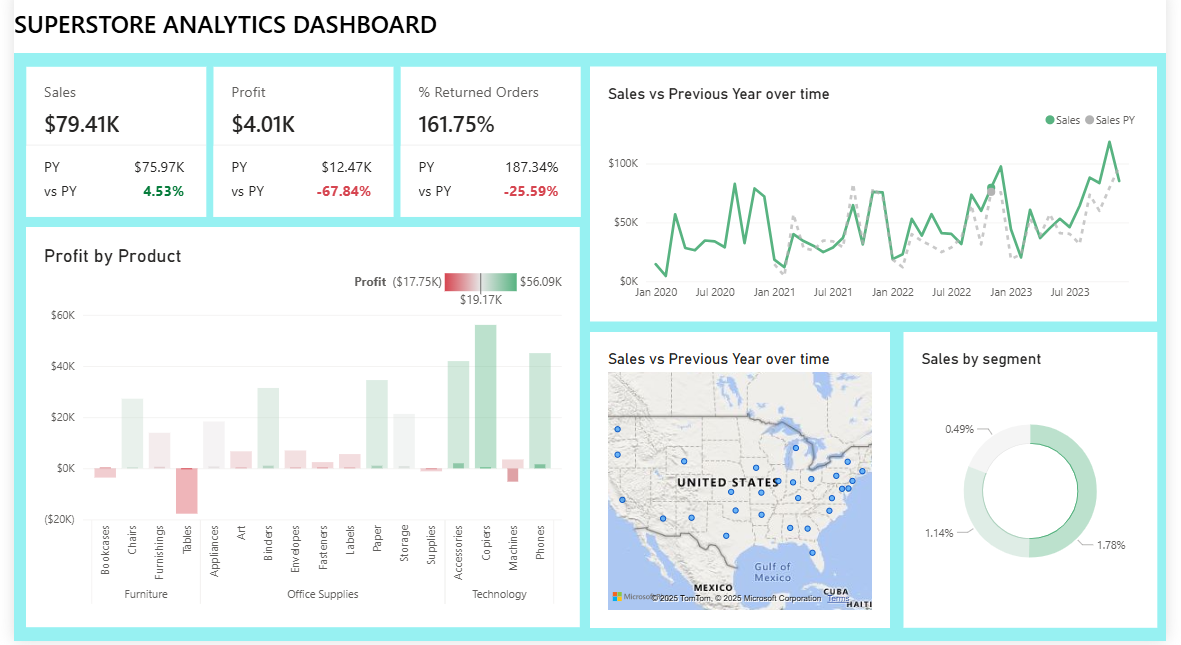

This screenshot's page, from the dashboard's own definition file:
{"tool":"powerbi","page":{"name":"Page 1","canvas":[1280,720],"ordinal":0},"visuals":[{"type":"cardVisual","fields":{"Data":["key measure.Sales","key measure.Profit","key measure.% Returned Orders"]},"box":[8.2,76.4,626.8,177.3],"z":0},{"type":"shape","box":[0,0,1280.4,66.8],"z":1000},{"type":"lineChart","title":"Sales vs Previous Year over time","fields":{"Y":["key measure.Sales","key measure.Sales PY"],"Category":["Date Table.Start of month"]},"box":[640,81.5,640,283.5],"z":2000},{"type":"columnChart","title":"Profit by Product","fields":{"Category":["Orders.Category","Orders.Sub-Category"],"Y":["key measure.Profit"]},"box":[13.1,260.8,615.4,444.6],"z":3000},{"type":"map","title":"Sales vs Previous Year over time","fields":{"Category":["Orders.State/Province"]},"box":[640,376.7,333.3,328.3],"z":3001},{"type":"donutChart","title":"Sales by segment","fields":{"Y":["key measure.Sales"],"Category":["Orders.Segment"]},"box":[988.3,376.7,281.7,328.3],"z":3002}]}

Visuals, with their boxes in screenshot pixels (x1, y1, x2, y2), scaled from the page's 1280x720 canvas onto the 1181x645 screenshot:
cardVisual - key measure.Sales x key measure.Profit: detection(8, 68, 586, 227)
shape: detection(0, 0, 1180, 60)
"Sales vs Previous Year over time" lineChart: detection(590, 73, 1180, 327)
"Profit by Product" columnChart: detection(12, 234, 580, 632)
"Sales vs Previous Year over time" map: detection(590, 337, 898, 632)
"Sales by segment" donutChart: detection(912, 337, 1172, 632)
